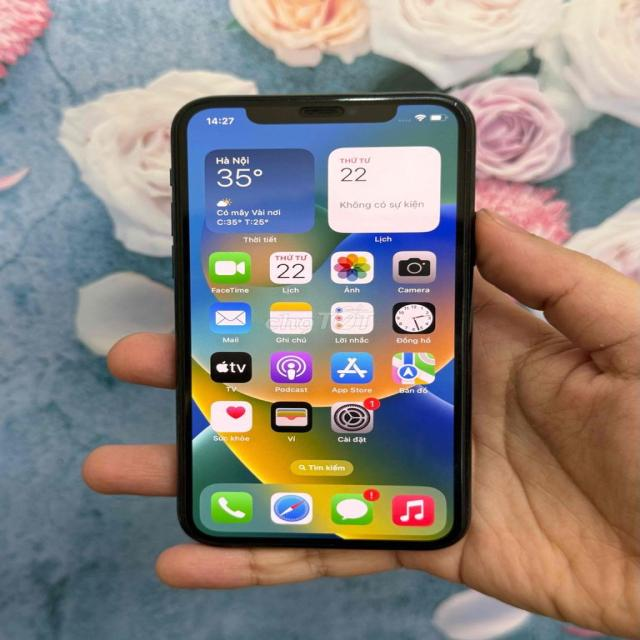gen_11: (157, 85, 489, 554)
scratch: (447, 94, 470, 115)
